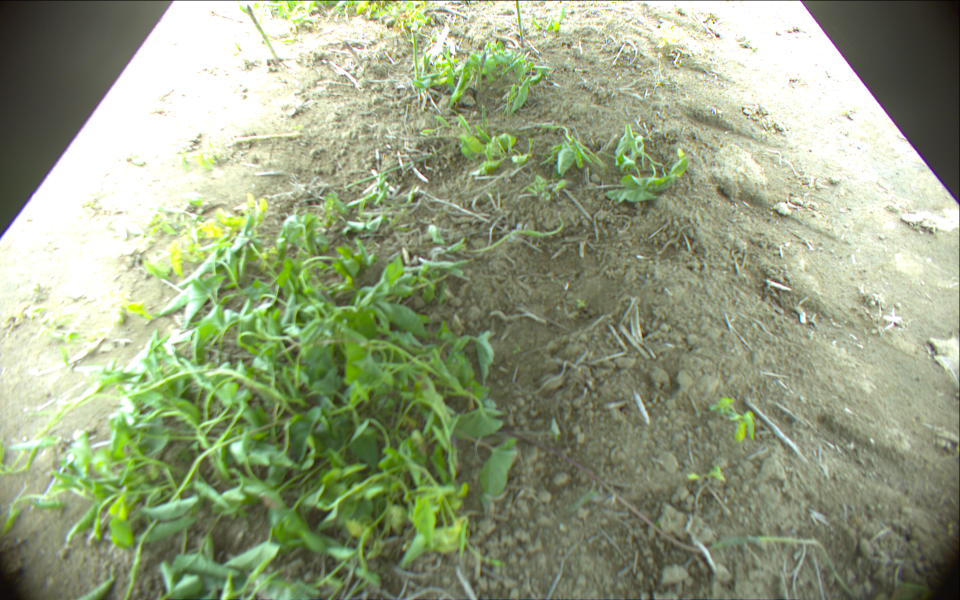aspa: (245, 2, 283, 63), (410, 26, 423, 84), (510, 1, 526, 47), (344, 39, 365, 67)
